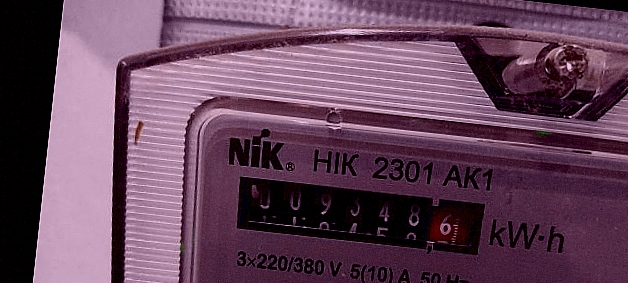0: (255, 184, 274, 211), (286, 184, 303, 211)
3: (347, 192, 363, 218)
4: (373, 193, 394, 224)
6: (435, 207, 455, 238)
8: (405, 199, 423, 228)
9: (316, 190, 333, 219)
screen: (215, 160, 499, 267)
